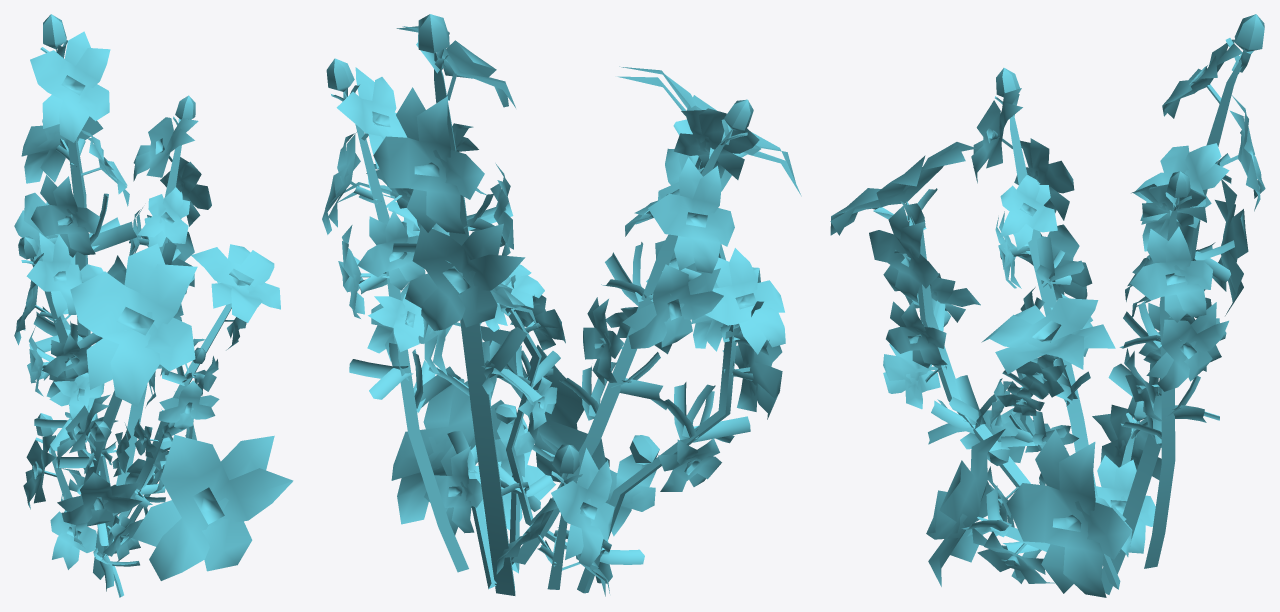
The model's file is Flower_purple_2.fbx.
The picture shows the model from 3 angles, left to right: view 1: azimuth 30°, elevation 25°; view 2: azimuth 150°, elevation 25°; view 3: azimuth 270°, elevation 25°; orthographic projection. The views are drawn at different scales.
Visible parts, largest first — view 1: Flower_purple_2; view 2: Flower_purple_2; view 3: Flower_purple_2.
Boxes of the visible parts, x1,y1,x2,y2 form: Flower_purple_2: (14, 14, 293, 597); Flower_purple_2: (322, 14, 801, 596); Flower_purple_2: (830, 14, 1265, 597).
Size of the model in its own units: 59.69 by 99.28 by 66.83.
